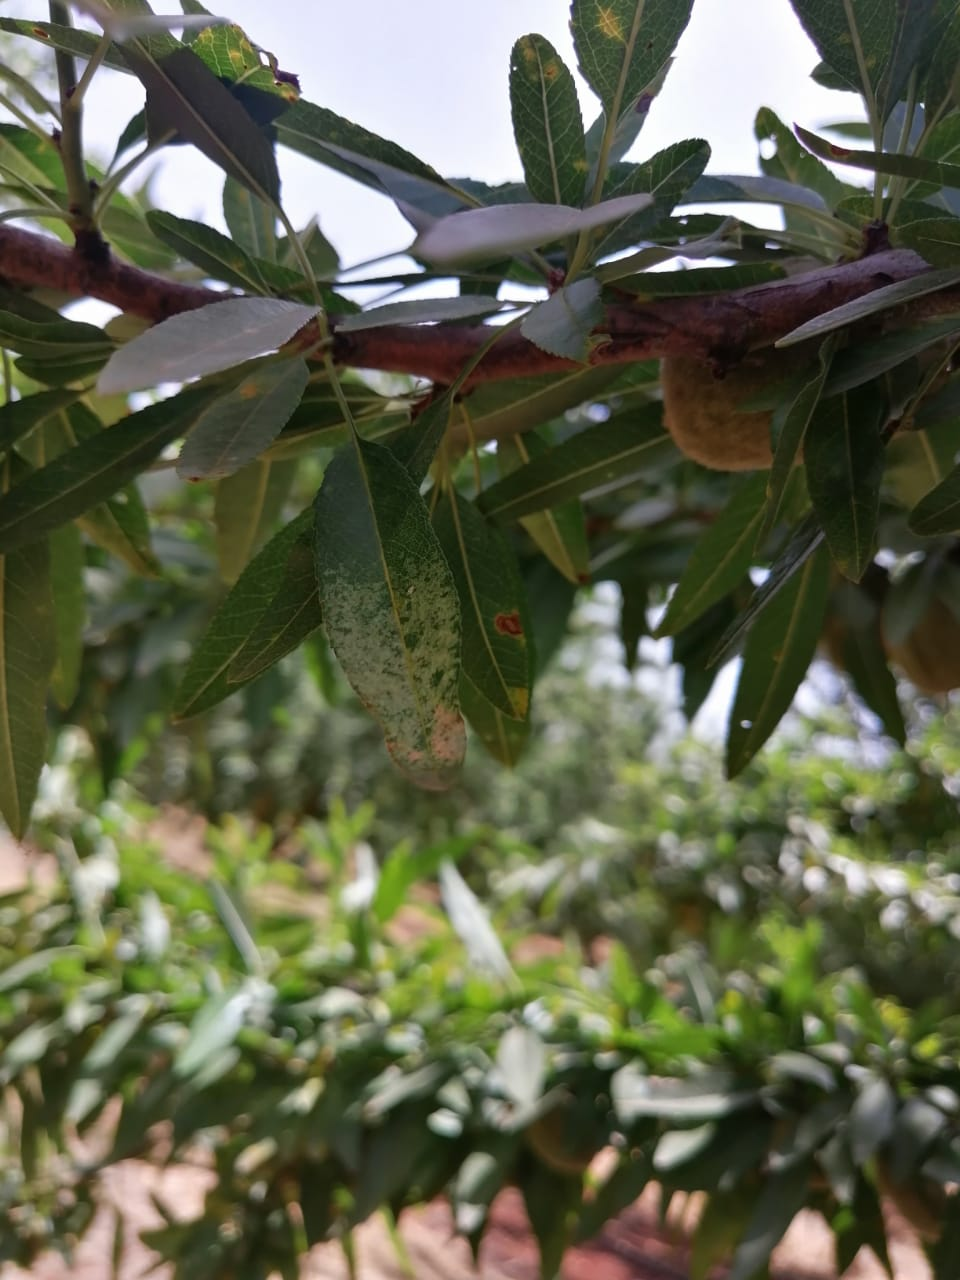faux tigre: (311, 435, 469, 788)
